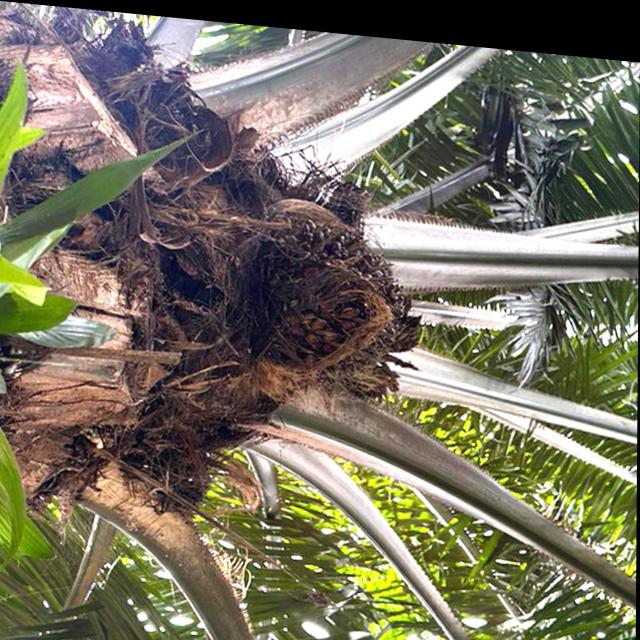ripe: (254, 215, 423, 409)
